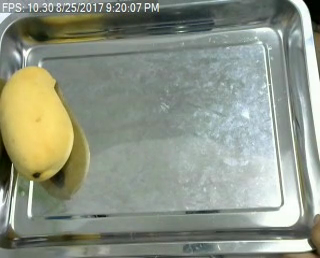Mango: (0, 61, 76, 183)
